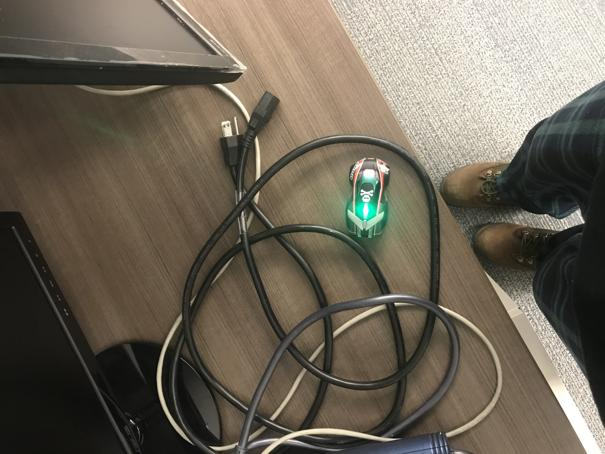Skull: (345, 156, 392, 240)
